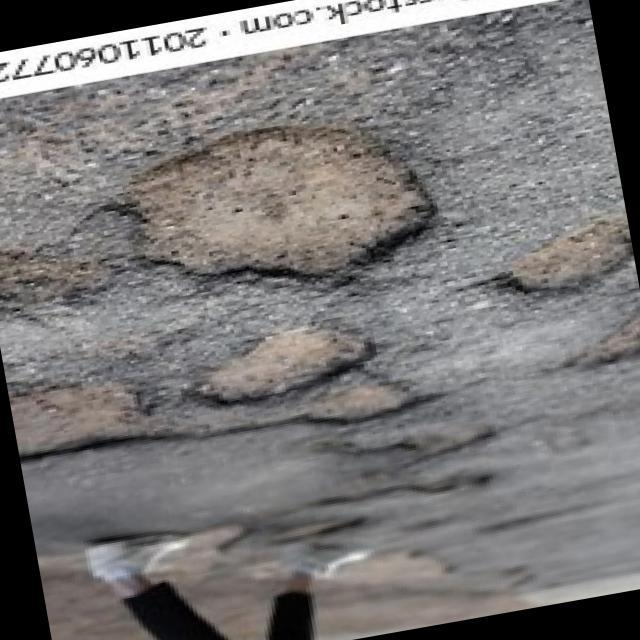Pothole: (131, 125, 435, 281), (188, 326, 381, 408), (478, 220, 631, 293)
